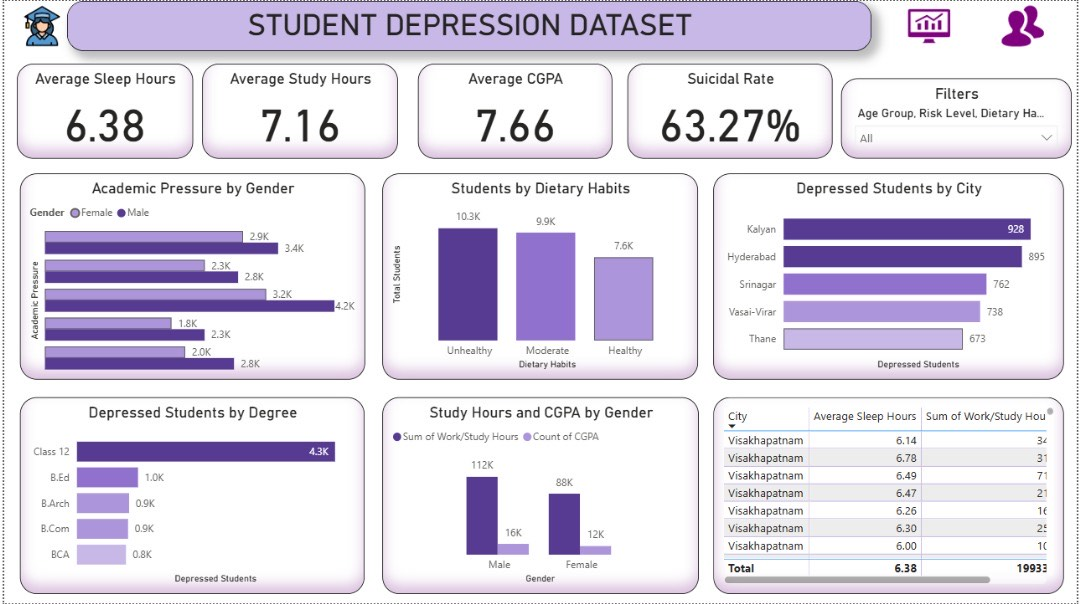

Layout of this report page (visuals, bound fields, positions):
{"tool":"powerbi","page":{"name":"Demographics And Lifestyle","canvas":[1280,720],"ordinal":1},"visuals":[{"type":"textbox","title":"STUDENT DEPRESSION DATASET","box":[101.7,0,698.3,60],"z":0},{"type":"card","title":"Average Sleep Hours","fields":{"Values":["cleaned_student_depression_data.Average Sleep Hours"]},"box":[15,75,210,113.3],"z":1000},{"type":"card","title":"Average Study Hours","fields":{"Values":["cleaned_student_depression_data.Average Study Hours"]},"box":[236.7,75,233.3,113.3],"z":2000},{"type":"card","title":"Average CGPA","fields":{"Values":["cleaned_student_depression_data.Average CGPA"]},"box":[493.3,75,231.7,113.3],"z":3000},{"type":"card","title":"Suicidal Rate","fields":{"Values":["cleaned_student_depression_data.Suicidal Rate"]},"box":[743.3,75,245,113.3],"z":4000},{"type":"clusteredBarChart","title":"Academic Pressure by Gender","fields":{"Category":["cleaned_student_depression_data.Academic Pressure"],"Y":["cleaned_student_depression_data.Total Students"],"Series":["cleaned_student_depression_data.Gender"]},"box":[18.3,206.7,411.7,246.7],"z":5000},{"type":"tableEx","fields":{"Values":["cleaned_student_depression_data.City","cleaned_student_depression_data.Average Sleep Hours","Sum(cleaned_student_depression_data.Work/Study Hours)","cleaned_student_depression_data.Degree"]},"box":[846.7,473.3,418.3,246.7],"z":6000},{"type":"clusteredBarChart","fields":{"Category":["cleaned_student_depression_data.Degree"],"Y":["cleaned_student_depression_data.Depressed Students"]},"box":[18.3,473.3,411.7,246.7],"z":7000},{"type":"clusteredBarChart","fields":{"Category":["cleaned_student_depression_data.City"],"Y":["cleaned_student_depression_data.Depressed Students"]},"box":[846.7,206.7,418.3,246.7],"z":8000},{"type":"clusteredColumnChart","title":"Study Hours and CGPA by Gender","fields":{"Y":["Sum(cleaned_student_depression_data.Work/Study Hours)","CountNonNull(cleaned_student_depression_data.CGPA)"],"Category":["cleaned_student_depression_data.Gender"]},"box":[451.7,473.3,376.7,246.7],"z":9000},{"type":"clusteredColumnChart","title":"Students by Dietary Habits","fields":{"Y":["cleaned_student_depression_data.Total Students"],"Category":["cleaned_student_depression_data.Dietary Habits"]},"box":[451.7,206.7,376.7,246.7],"z":10000},{"type":"image","box":[0,0,90,60],"z":11000},{"type":"textbox","title":"DEMOGRAPHICS AND LIFESTYLE","box":[966.7,0,298.3,60],"z":12000},{"type":"pageNavigator","box":[0,0,400,50],"z":12001}]}

Visuals, with their boxes in screenshot pixels (x1, y1, x2, y2), scaled from the page's 1280x720 canvas onto the 1080x604 screenshot:
"STUDENT DEPRESSION DATASET" textbox: (86,0,675,50)
"Average Sleep Hours" card: (13,63,190,158)
"Average Study Hours" card: (200,63,397,158)
"Average CGPA" card: (416,63,612,158)
"Suicidal Rate" card: (627,63,834,158)
"Academic Pressure by Gender" clusteredBarChart: (15,173,363,380)
tableEx - cleaned_student_depression_data.City x cleaned_student_depression_data.Average Sleep Hours: (714,397,1067,603)
clusteredBarChart - cleaned_student_depression_data.Degree x cleaned_student_depression_data.Depressed Students: (15,397,363,603)
clusteredBarChart - cleaned_student_depression_data.City x cleaned_student_depression_data.Depressed Students: (714,173,1067,380)
"Study Hours and CGPA by Gender" clusteredColumnChart: (381,397,699,603)
"Students by Dietary Habits" clusteredColumnChart: (381,173,699,380)
image: (0,0,76,50)
"DEMOGRAPHICS AND LIFESTYLE" textbox: (816,0,1067,50)
pageNavigator: (0,0,338,42)
